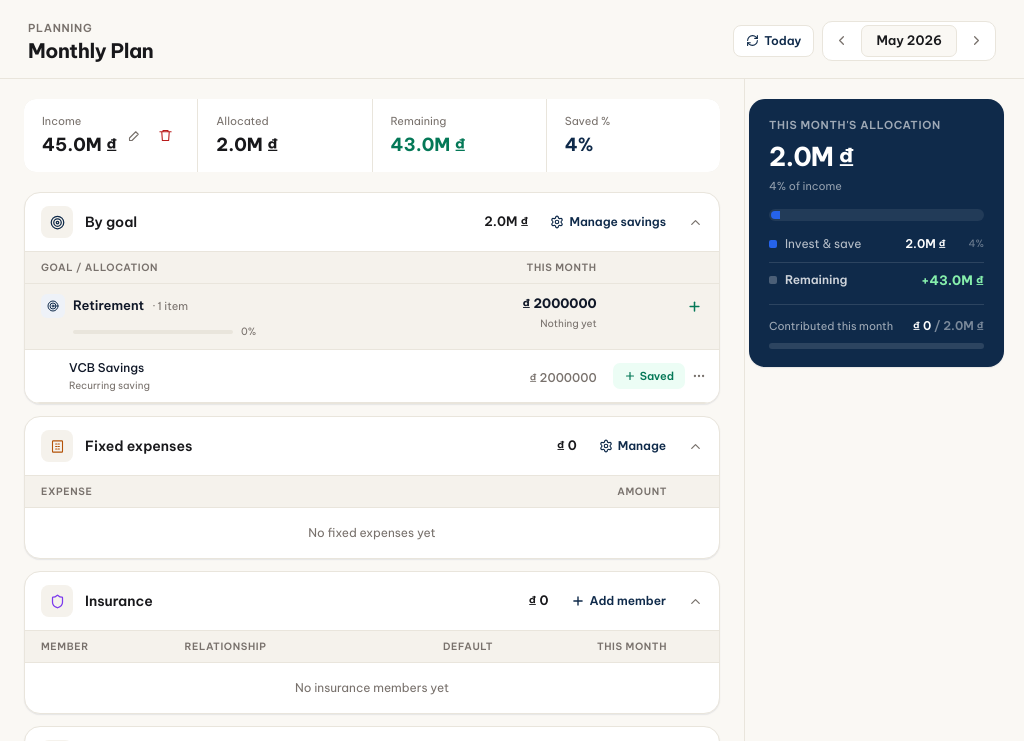
Scenario: DesktopPlanningView — goal header "+" log contribution › opens the Add-Transaction sheet when the goal "+" is clicked
The image size is (1024, 741).
Click the button named "Log contribution": {"x": 694, "y": 306} [682,294,707,319]
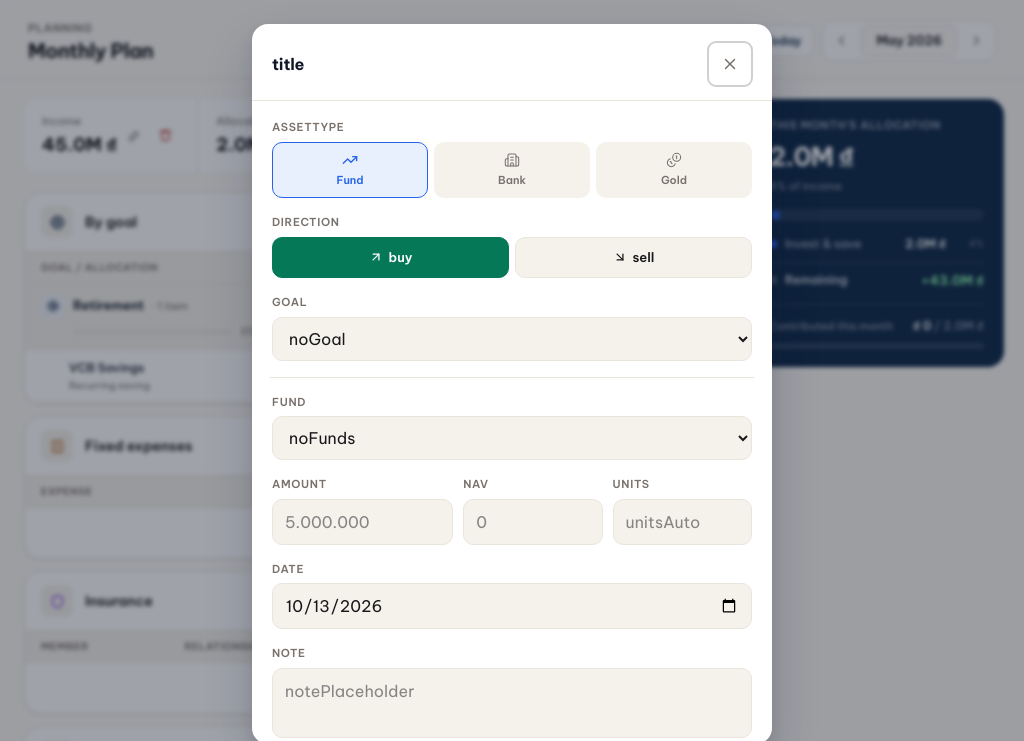
Expected: the button "Gold" is shown, [596,142,752,198]
